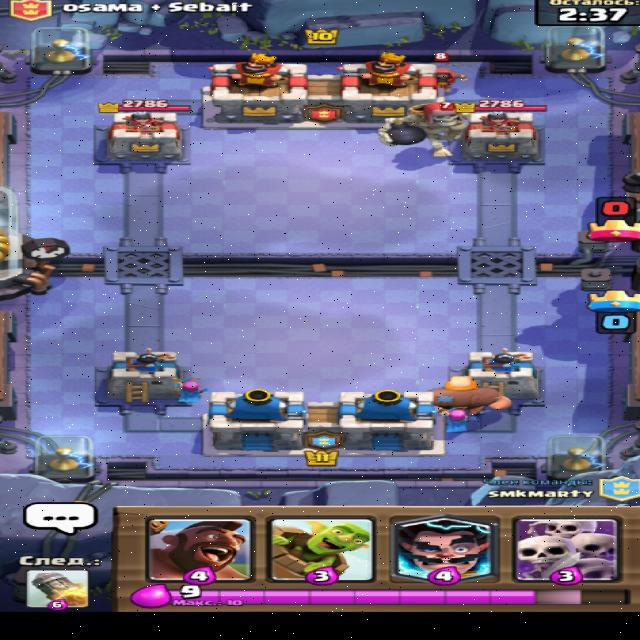Enemy-GiantSkeleton: (376, 100, 468, 156)
Enemy-Wizard: (431, 52, 468, 93)
Player-Archer: (435, 404, 476, 434), (170, 376, 210, 402)
Player-Giant: (426, 374, 511, 414)
